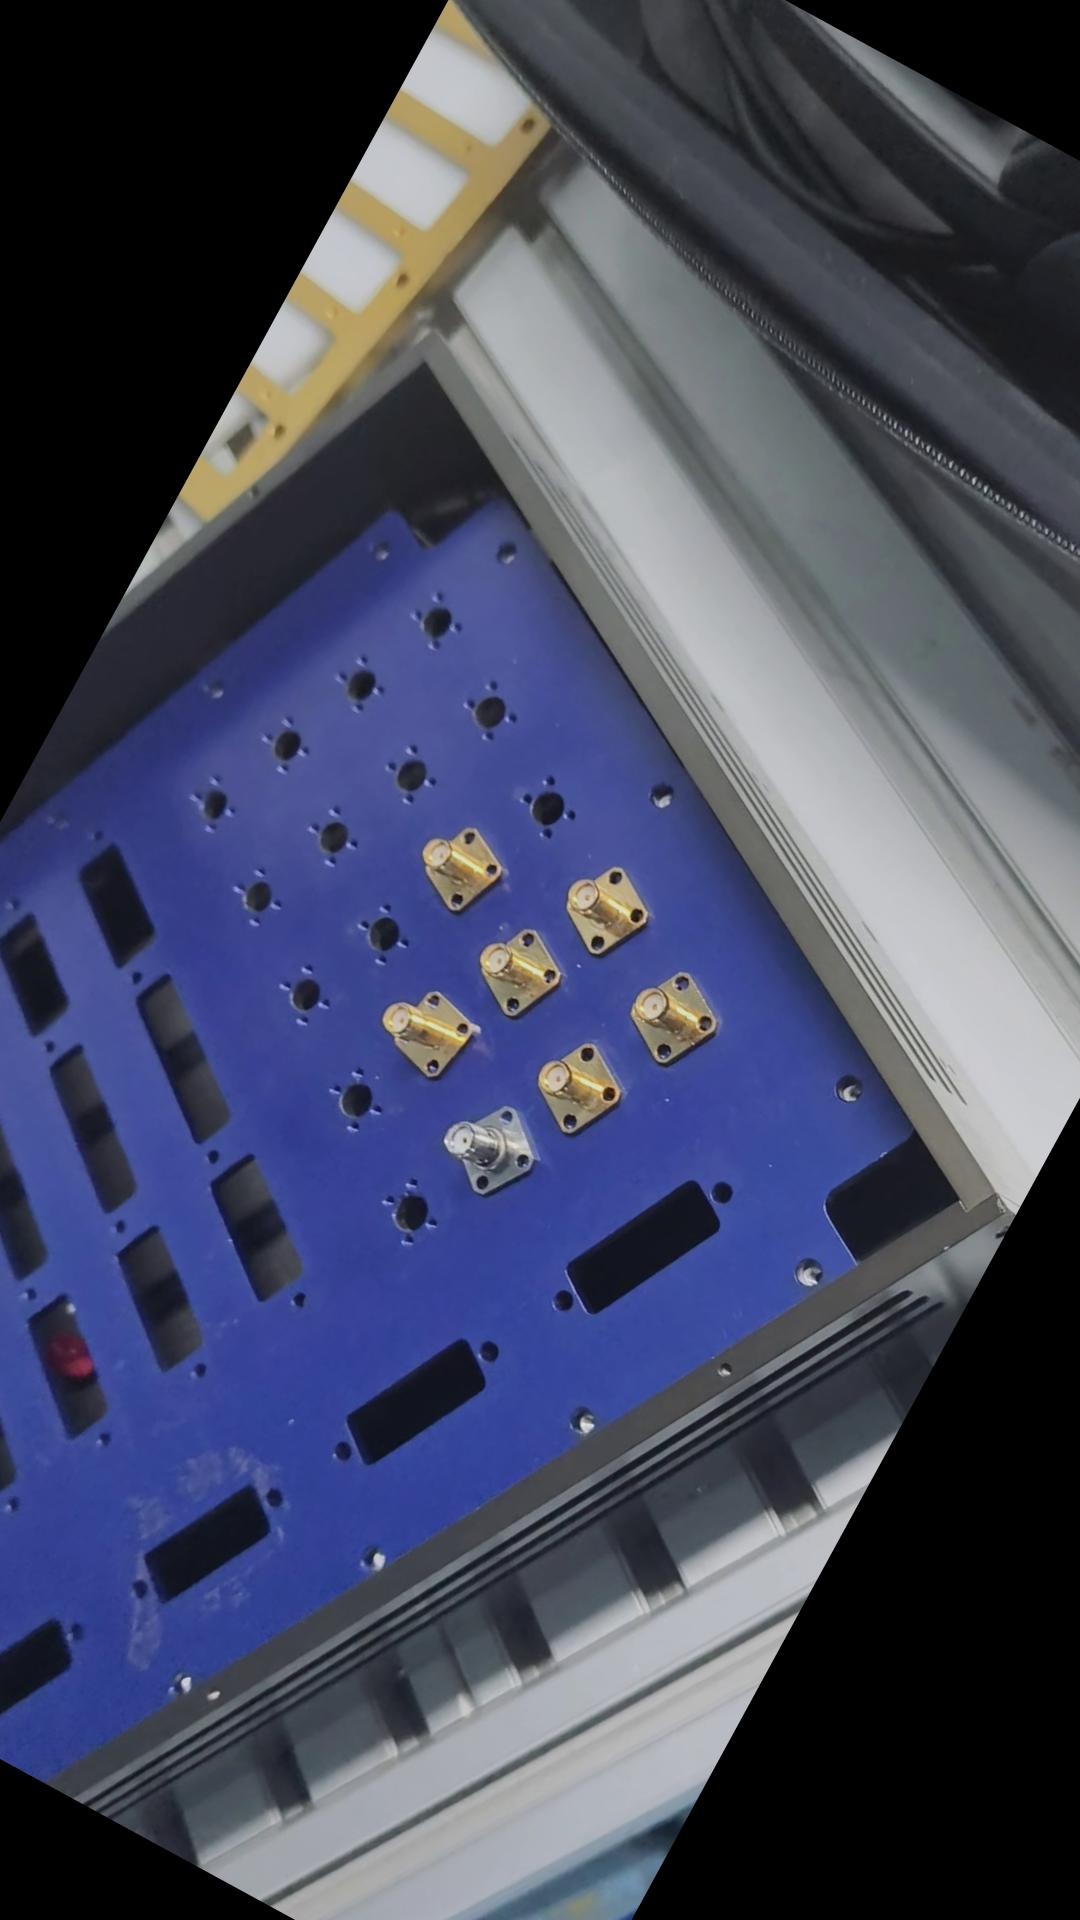SMA: (423, 1077, 560, 1216), (611, 947, 745, 1084), (508, 1015, 644, 1150), (452, 909, 578, 1034), (543, 845, 662, 965), (398, 808, 517, 928), (371, 977, 484, 1087)
